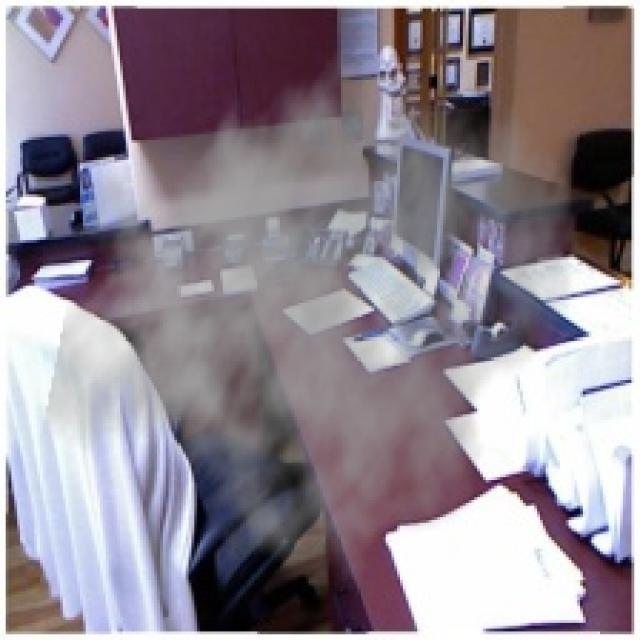smoke: (40, 23, 580, 588)
